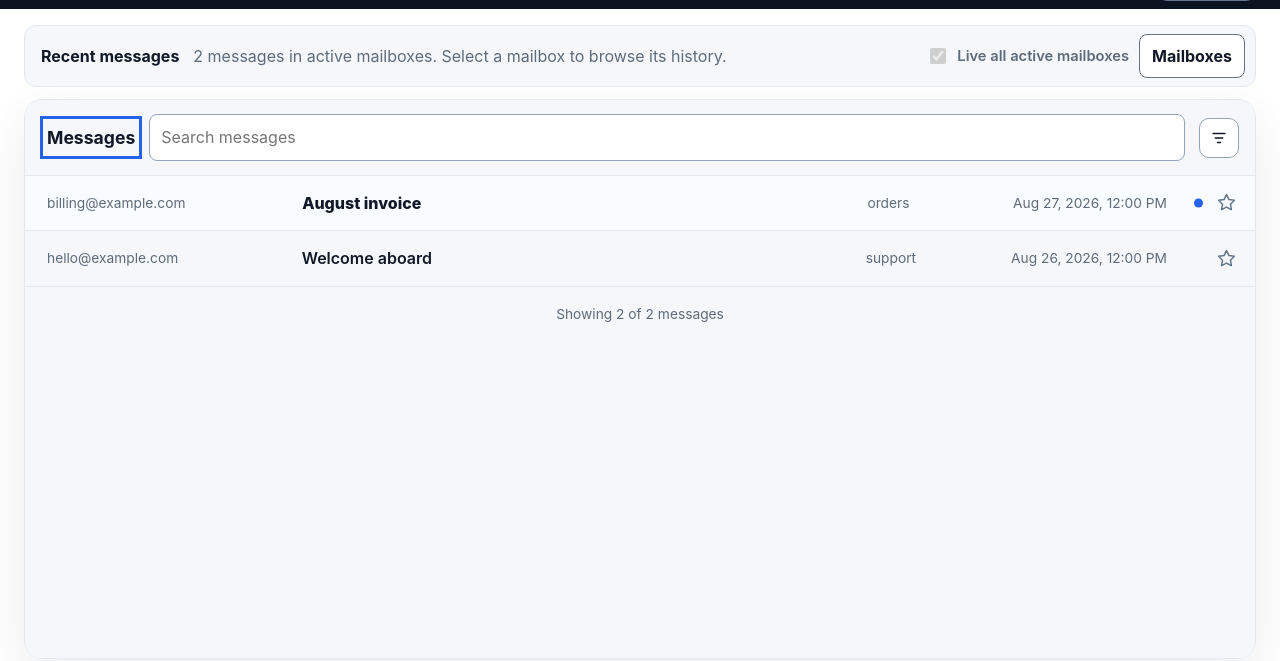
Test: recent messages › shows recent history on startup without selecting saved mailboxes
Expected: the button with aria-label "Unread: August invoice" is shown, [25, 176, 1255, 230]
Expected: the button with aria-label "Read: Welcome aboard" is shown, [25, 231, 1255, 286]
Click the heading named "Manage saved mailboxes". click: coordinates (1192, 56)
box: [1139, 34, 1245, 78]
(page scrolled)
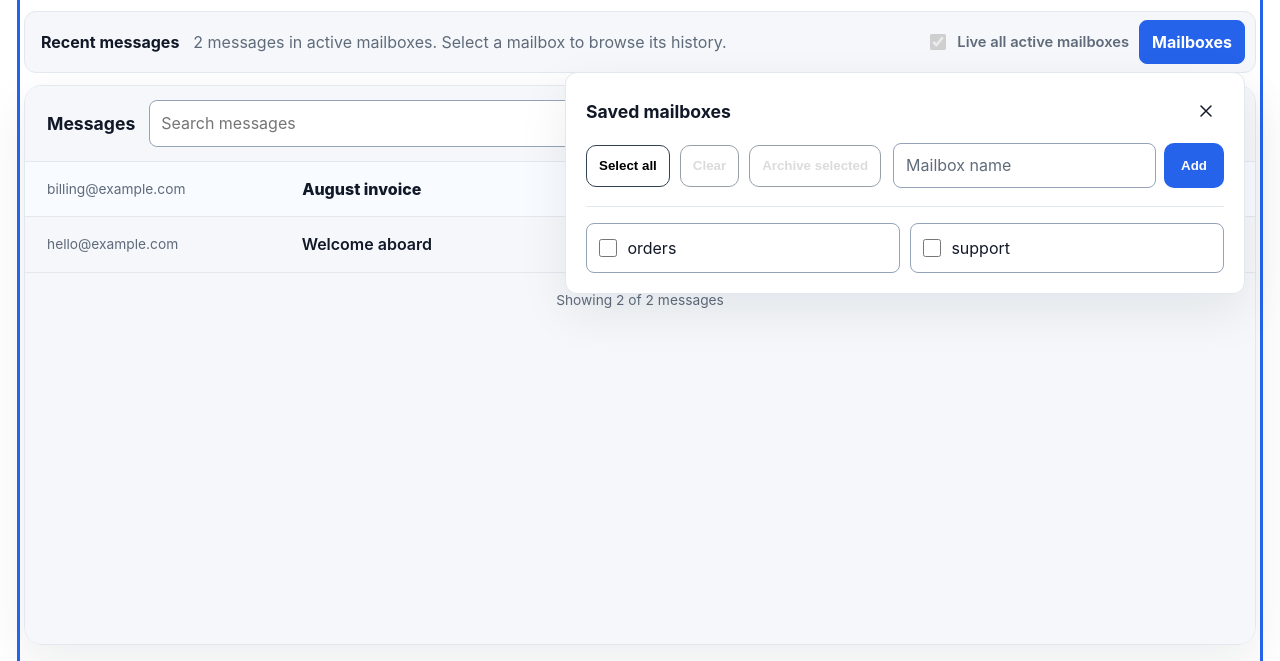
Now the checkbox labelled "orders" is not checked, box [599, 239, 617, 257]
Now the checkbox labelled "support" is not checked, box [923, 239, 941, 257]
Now the button "Archive selected" is disabled, box [749, 145, 881, 187]
